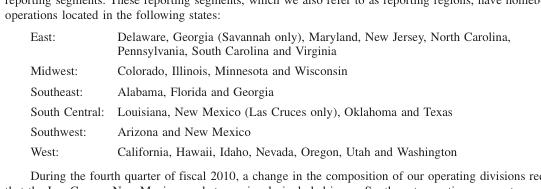table: (29, 28, 509, 157)
table column: (109, 28, 509, 157), (29, 28, 109, 157)
table row: (29, 28, 509, 59), (29, 59, 509, 80), (29, 80, 509, 100), (29, 100, 509, 120), (29, 120, 509, 140), (29, 140, 509, 157)
